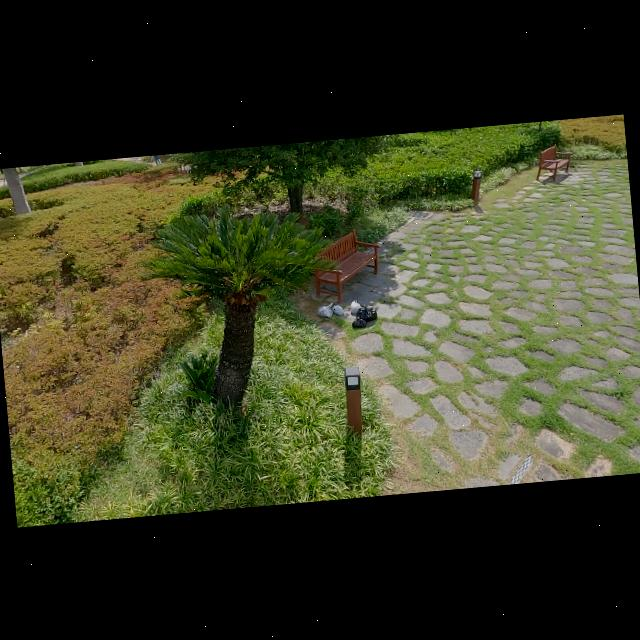trash: (353, 300, 378, 322), (315, 300, 333, 317), (348, 296, 362, 314), (351, 314, 368, 328), (330, 302, 344, 316)
